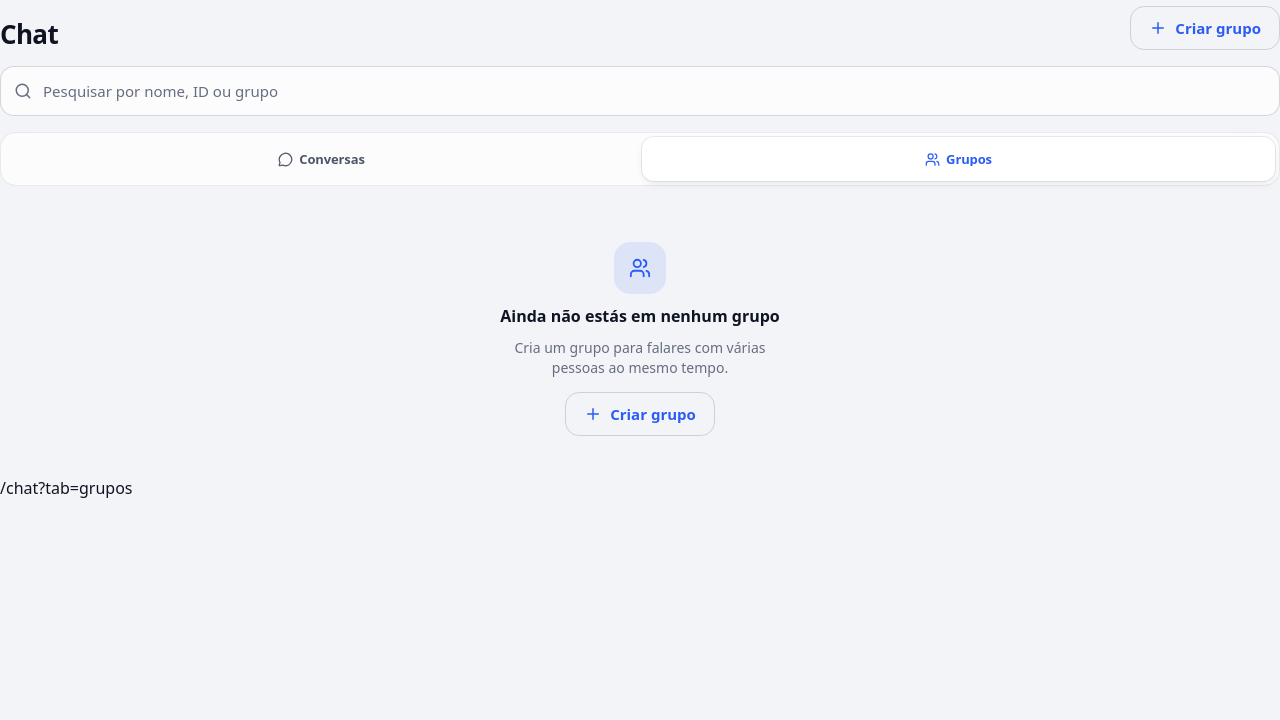
ChatPage › no groups: explains and offers "Criar grupo"
Check: the text "Ainda não estás em nenhum grupo" is shown, box left=500, top=304, right=780, bottom=328
Check: the text "Cria um grupo para falares com várias pessoas ao mesmo tempo." is shown, box left=496, top=338, right=784, bottom=378
Click the button "Criar grupo" below "Ainda não estás em nenhum grupo": (640, 414) left=565, top=392, right=715, bottom=436
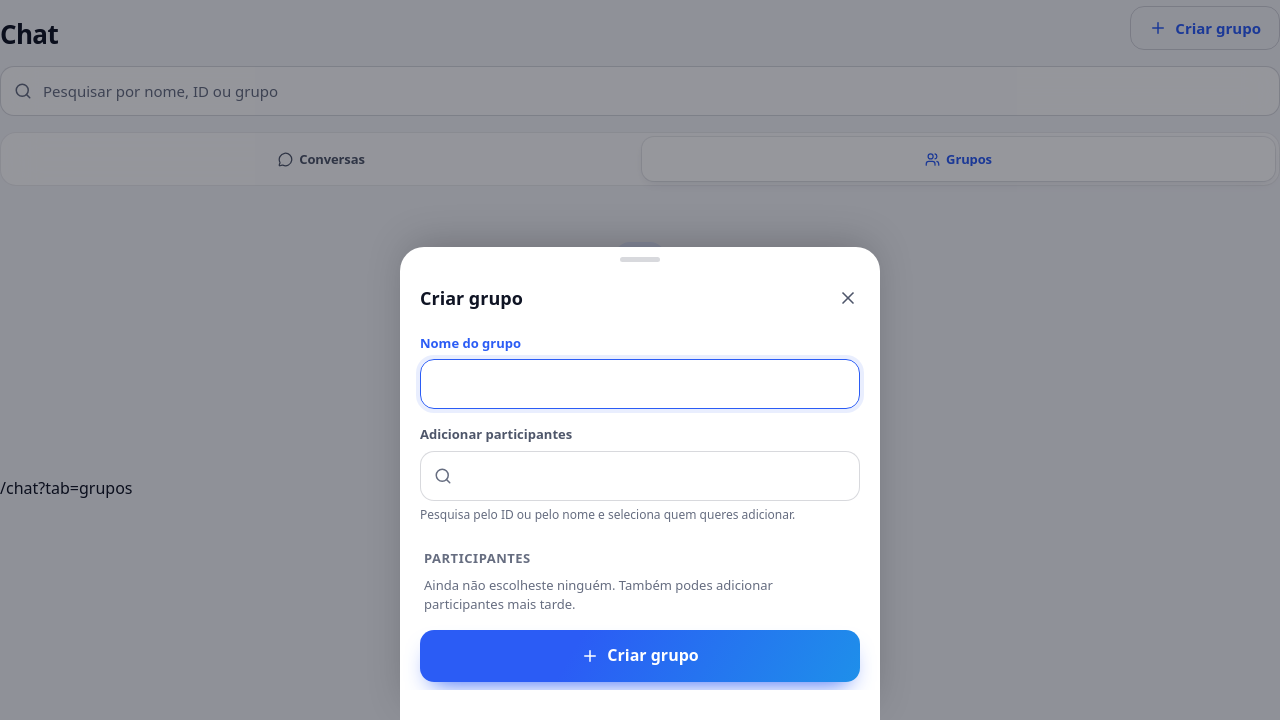
Check: the dialog "Criar grupo" is shown, box left=400, top=247, right=880, bottom=719
